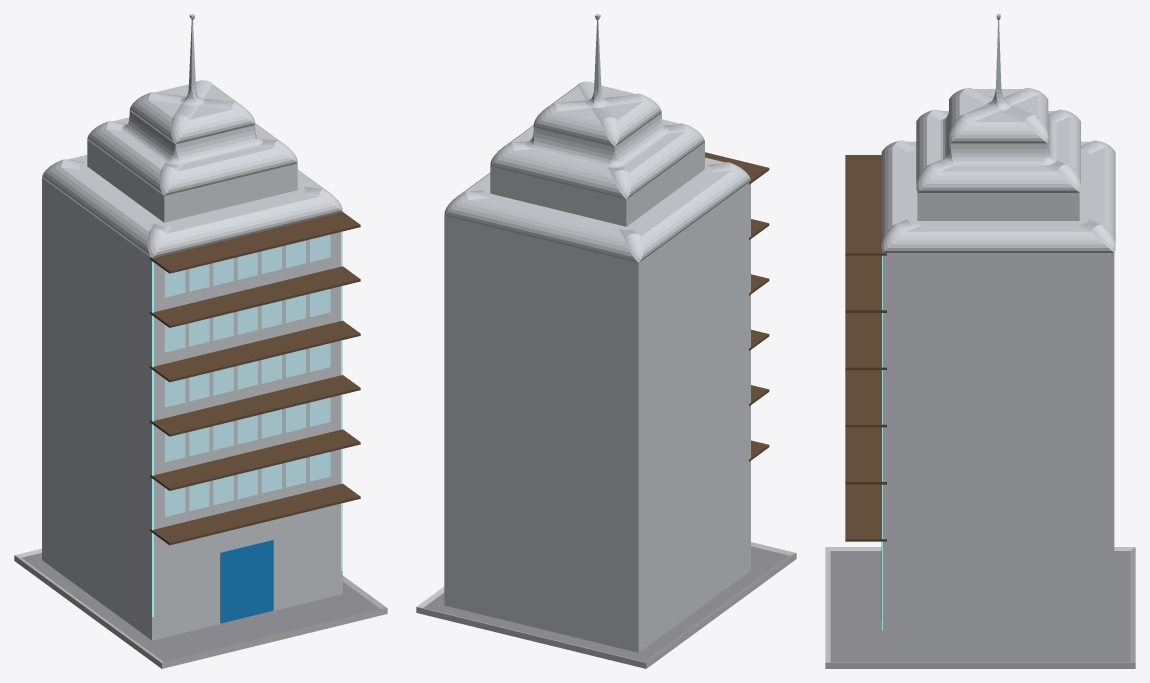
The model's file is medium-building.glb.
3 renders of one model, left to right at view 1: azimuth 30°, elevation 25°; view 2: azimuth 150°, elevation 25°; view 3: azimuth 270°, elevation 25°, orthographic. The views are drawn at different scales.
Parts seen in each view (by area): view 1: Small_Building_Body, Base_Small_Building, Small_Building_Floor_02, Small_Building_Floor_05, Small_Building_Floor_01, Small_Building_Floor_04, Small_Building_Floor_03, Small_Building_Floor_06, Small_Building_Door, Small_Building_Neon_Ray_01; view 2: Small_Building_Body, Base_Small_Building; view 3: Small_Building_Body, Base_Small_Building, Small_Building_Floor_06, Small_Building_Floor_03, Small_Building_Floor_02, Small_Building_Floor_01, Small_Building_Floor_05, Small_Building_Floor_04.
Boxes of the visible parts, bbox=[...] form: Small_Building_Body: bbox=[42, 14, 342, 640]; Base_Small_Building: bbox=[14, 548, 387, 668]; Small_Building_Floor_02: bbox=[150, 429, 360, 490]; Small_Building_Floor_05: bbox=[150, 266, 360, 327]; Small_Building_Floor_01: bbox=[150, 483, 360, 545]; Small_Building_Floor_04: bbox=[150, 320, 360, 382]; Small_Building_Floor_03: bbox=[150, 375, 360, 436]; Small_Building_Floor_06: bbox=[150, 212, 360, 273]; Small_Building_Door: bbox=[220, 540, 273, 623]; Small_Building_Neon_Ray_01: bbox=[152, 262, 153, 616]; Small_Building_Body: bbox=[444, 14, 750, 652]; Base_Small_Building: bbox=[416, 542, 796, 668]; Small_Building_Body: bbox=[881, 14, 1115, 655]; Base_Small_Building: bbox=[825, 547, 1135, 668]; Small_Building_Floor_06: bbox=[845, 155, 886, 255]; Small_Building_Floor_03: bbox=[845, 370, 886, 427]; Small_Building_Floor_02: bbox=[845, 427, 886, 484]; Small_Building_Floor_01: bbox=[845, 484, 886, 541]; Small_Building_Floor_05: bbox=[845, 255, 886, 312]; Small_Building_Floor_04: bbox=[845, 313, 886, 369].
Size of the model in its own units: 40.9 by 98.05 by 46.3.
